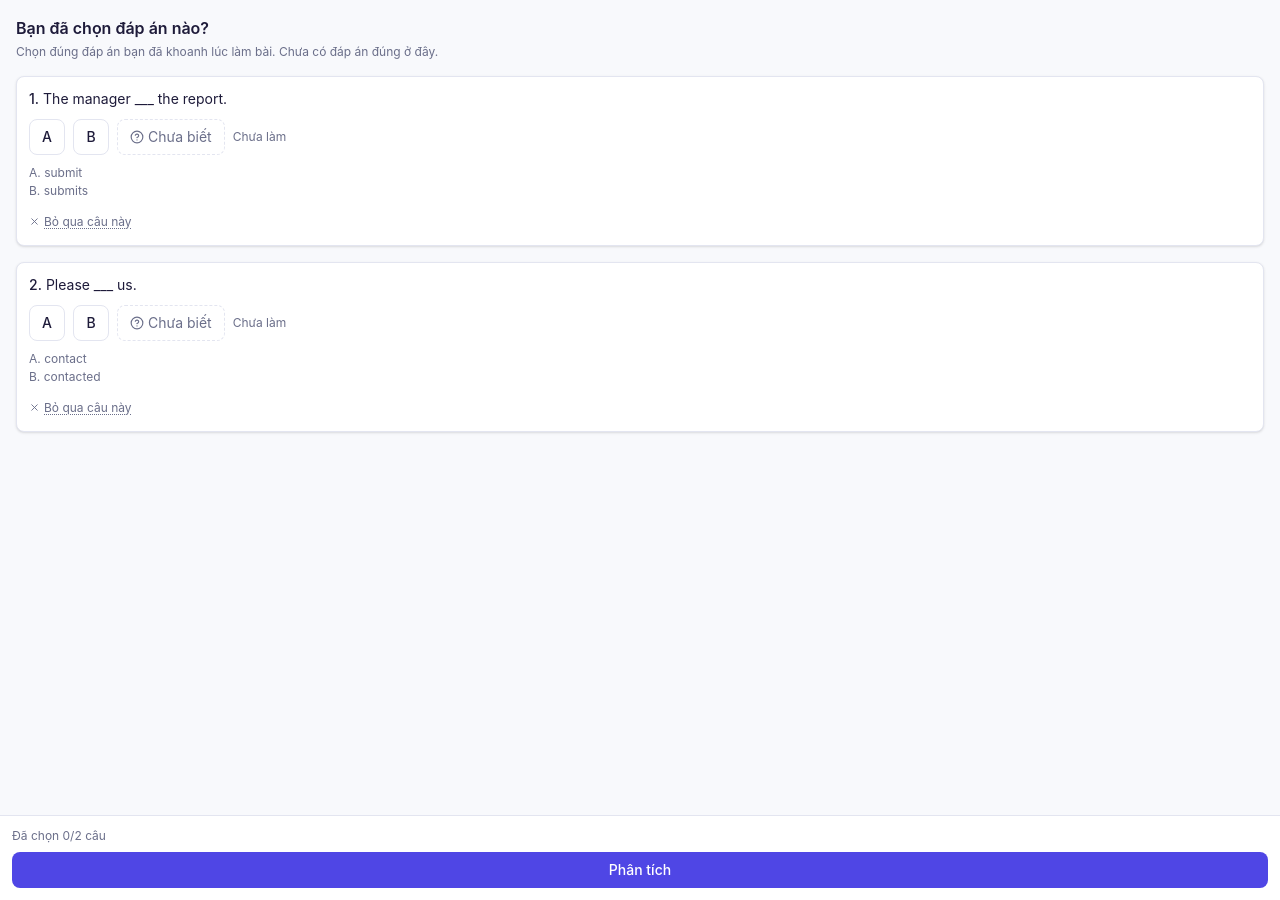
Test: Review view › surfaces a failure with a retry instead of losing the parsed questions
Click the button "Phân tích". click: click(640, 870)
box: [12,852,1268,888]
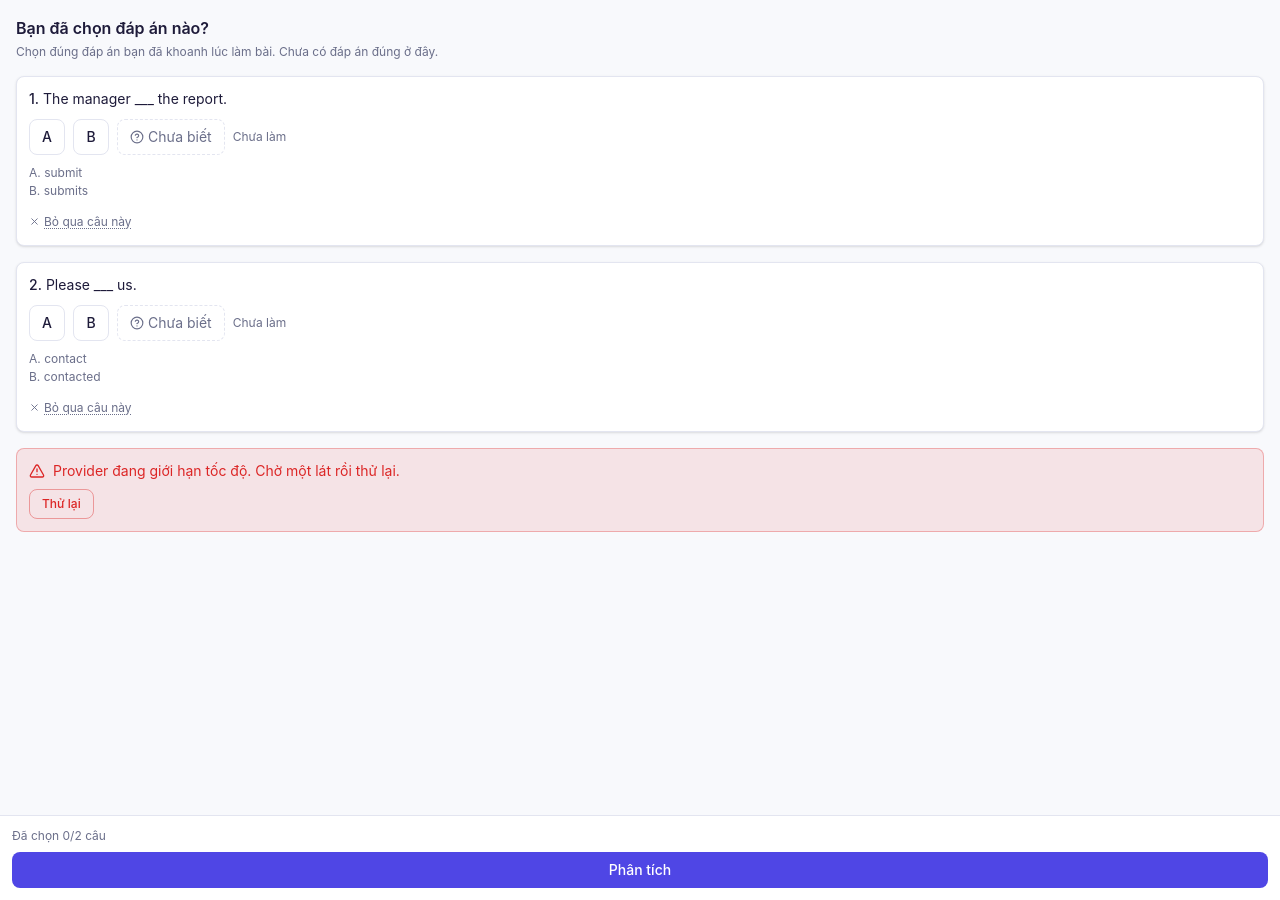
Expected: the element with test id "question-q1" is shown, [16,76,1264,246]
Now the button "Thử lại" is shown, box [29,489,94,519]
